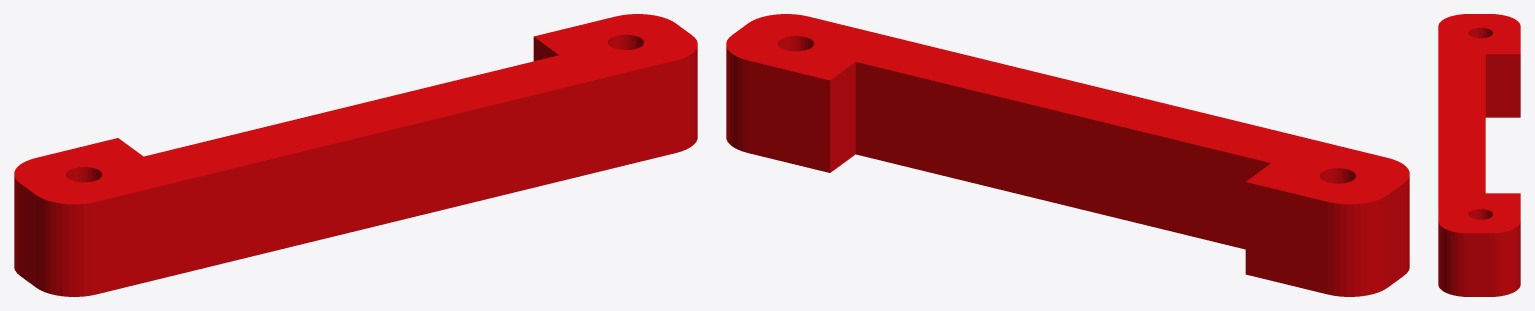
File: arm.dae
3 renders of one model, left to right at view 1: azimuth 30°, elevation 25°; view 2: azimuth 150°, elevation 25°; view 3: azimuth 270°, elevation 25°, orthographic. The views are drawn at different scales.
Visible parts, largest first — view 1: Arm; view 2: Arm; view 3: Arm.
Part boxes in pixels (bbox=[...]): Arm: bbox=[14, 14, 697, 296]; Arm: bbox=[726, 14, 1409, 296]; Arm: bbox=[1438, 14, 1520, 296].
Size of the model in its own units: 0.0519 by 0.00824 by 0.007.
